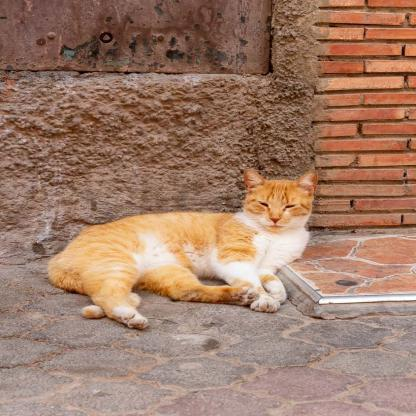cat: (36, 169, 326, 323)
